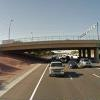Bridge: (4, 29, 97, 58)
